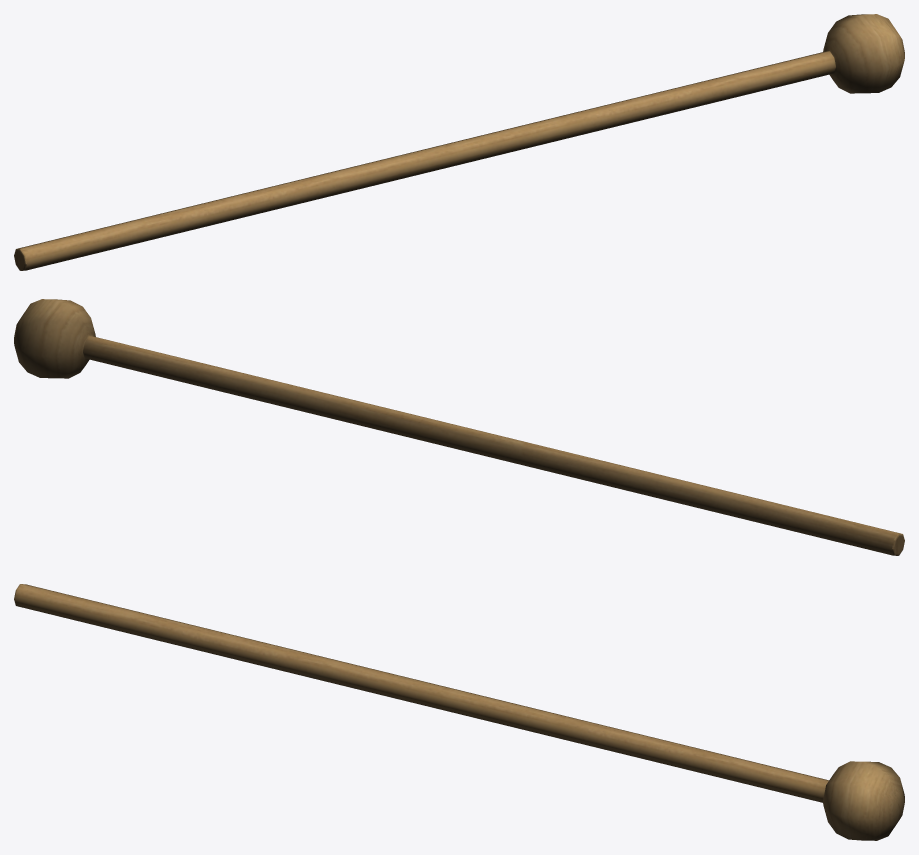
The model's file is mallet.fbx.
3 renders of one model, top to bottom at view 1: azimuth 30°, elevation 25°; view 2: azimuth 150°, elevation 25°; view 3: azimuth 330°, elevation 25°, orthographic.
Visible parts, largest first — view 1: Xylophone_StickA; view 2: Xylophone_StickA; view 3: Xylophone_StickA.
Part boxes in pixels (x1,y1,x2,y2): Xylophone_StickA: (14,14,904,270); Xylophone_StickA: (14,299,904,555); Xylophone_StickA: (14,584,904,840).
Size of the model in its own units: 30.69 by 2.61 by 2.61.
Materials: 1 (1 with a texture image).
